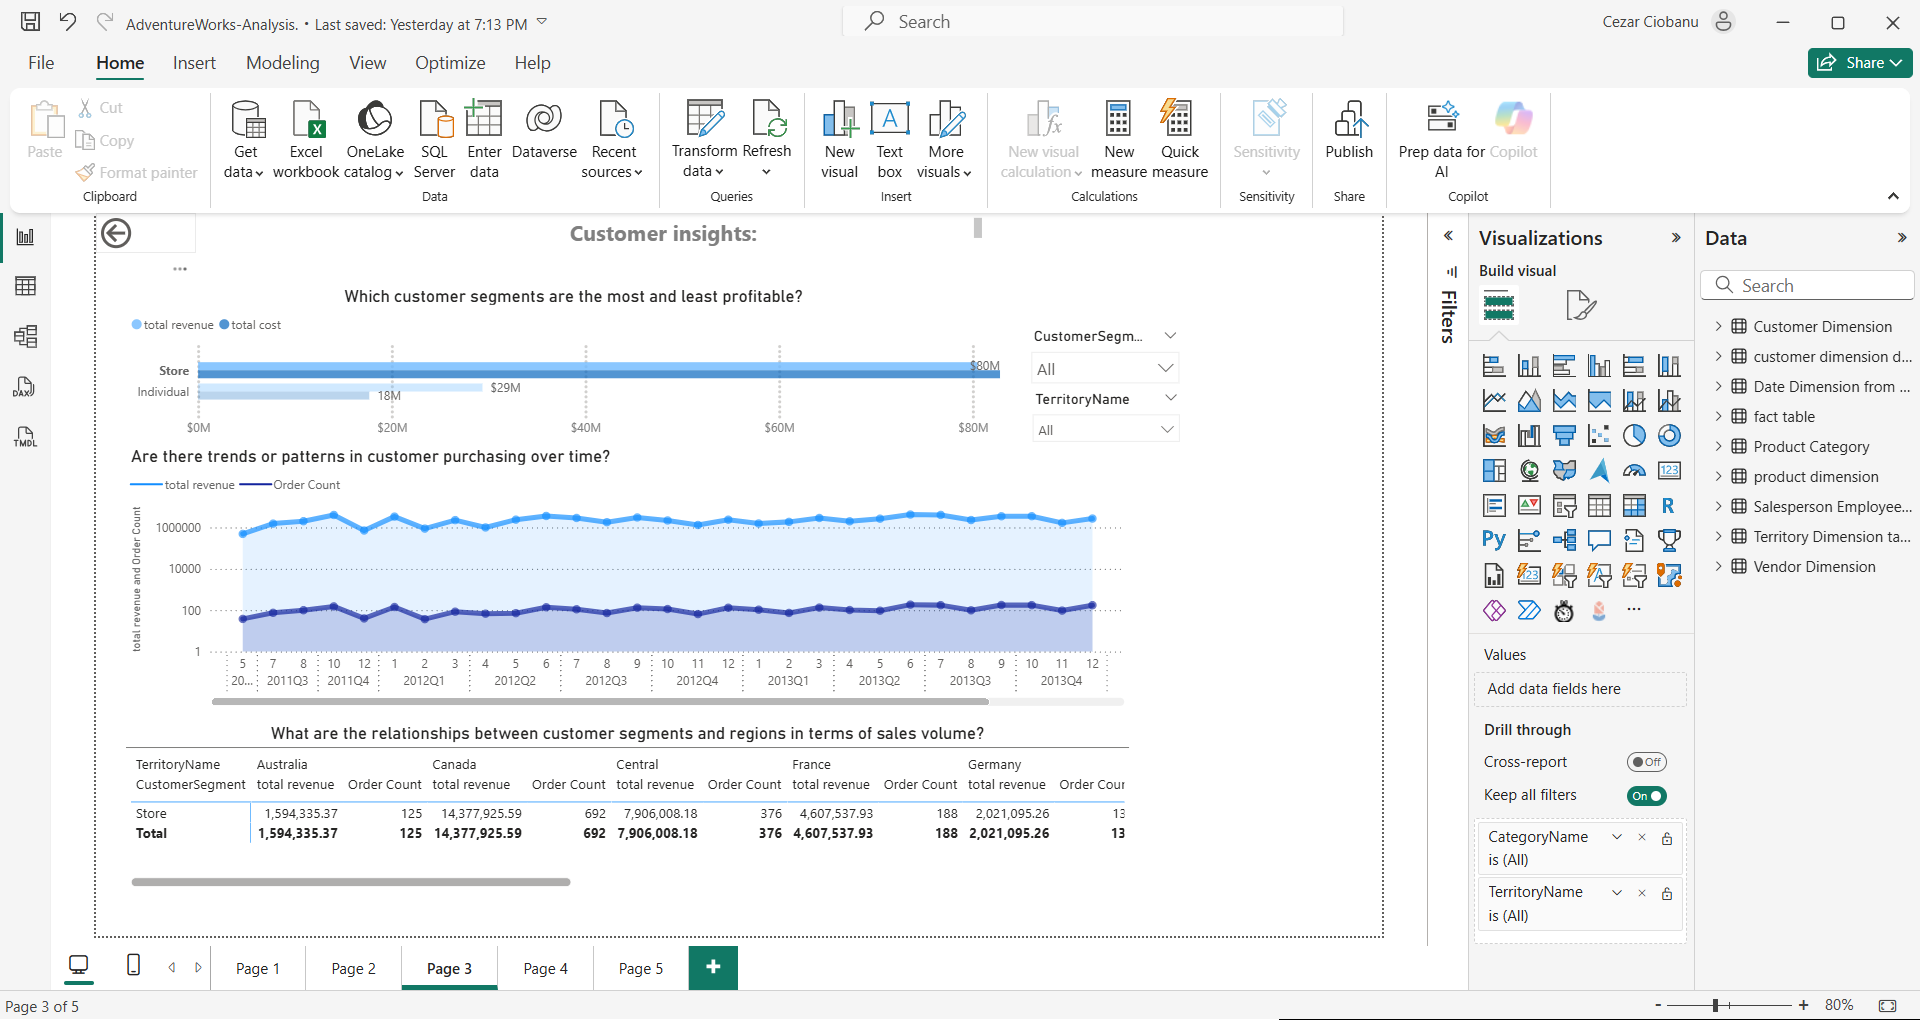

What the dashboard file says about the page in this screenshot:
{"tool":"powerbi","page":{"name":"Page 3","canvas":[1280,720],"ordinal":2},"visuals":[{"type":"textbox","box":[251.4,0,635.7,40],"z":0},{"type":"clusteredBarChart","title":"Which customer segments are the most and least profitable?","fields":{"Category":["customer dimension  detail tabl.CustomerSegment"],"Y":["fact table.total revenue","fact table.total cost"]},"box":[30,72,891,160],"z":1000},{"type":"actionButton","box":[0,0,100,40],"z":2000},{"type":"lineChart","title":"Are there trends or patterns in customer purchasing over time?","fields":{"Y":["fact table.total revenue","fact table.Order Count"],"Category":["Date Dimension from orders.YearQuarter","Date Dimension from orders.Month"]},"box":[30,231.4,998.6,264.3],"z":3000},{"type":"slicer","fields":{"Values":["customer dimension  detail tabl.CustomerSegment"]},"box":[921.1,108.9,167.8,62.2],"z":4000},{"type":"pivotTable","title":"What are the relationships between customer segments and regions in terms of sales volume?","fields":{"Rows":["customer dimension  detail tabl.CustomerSegment"],"Columns":["Territory Dimension table.TerritoryName"],"Values":["fact table.total revenue","fact table.Order Count"]},"box":[30,507.1,998.6,167.1],"z":5000},{"type":"slicer","fields":{"Values":["Territory Dimension table.TerritoryName"]},"box":[921.4,171.4,167.1,60],"z":6000}]}

Visuals, with their boxes on the page's 1280x720 design canvas (x1, y1, x2, y2). These are canvas units, not pixel positions in the 1920x1020 screenshot, which may show the page scaled, cropped or inside an application window:
textbox: (left=251, top=0, right=887, bottom=40)
"Which customer segments are the most and least profitable?" clusteredBarChart: (left=30, top=72, right=921, bottom=232)
actionButton: (left=0, top=0, right=100, bottom=40)
"Are there trends or patterns in customer purchasing over time?" lineChart: (left=30, top=231, right=1029, bottom=496)
slicer - customer dimension  detail tabl.CustomerSegment: (left=921, top=109, right=1089, bottom=171)
"What are the relationships between customer segments and regions in terms of sales volume?" pivotTable: (left=30, top=507, right=1029, bottom=674)
slicer - Territory Dimension table.TerritoryName: (left=921, top=171, right=1088, bottom=231)
